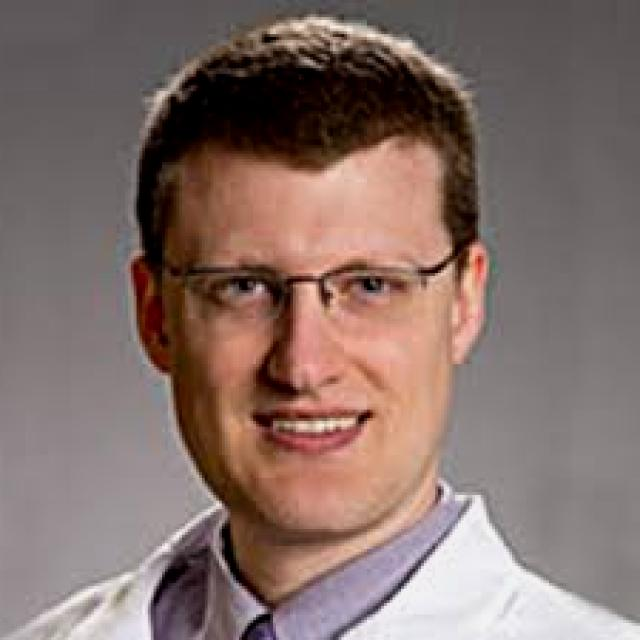normal_face: (127, 65, 485, 536)
